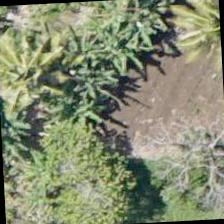Kelapa_Sawit: (2, 148, 78, 223), (166, 0, 223, 71)
